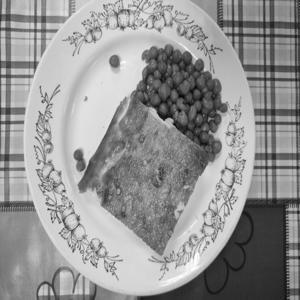casserole: (67, 34, 240, 275)
